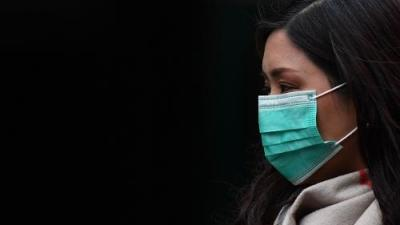with_mask: (229, 4, 400, 213)
